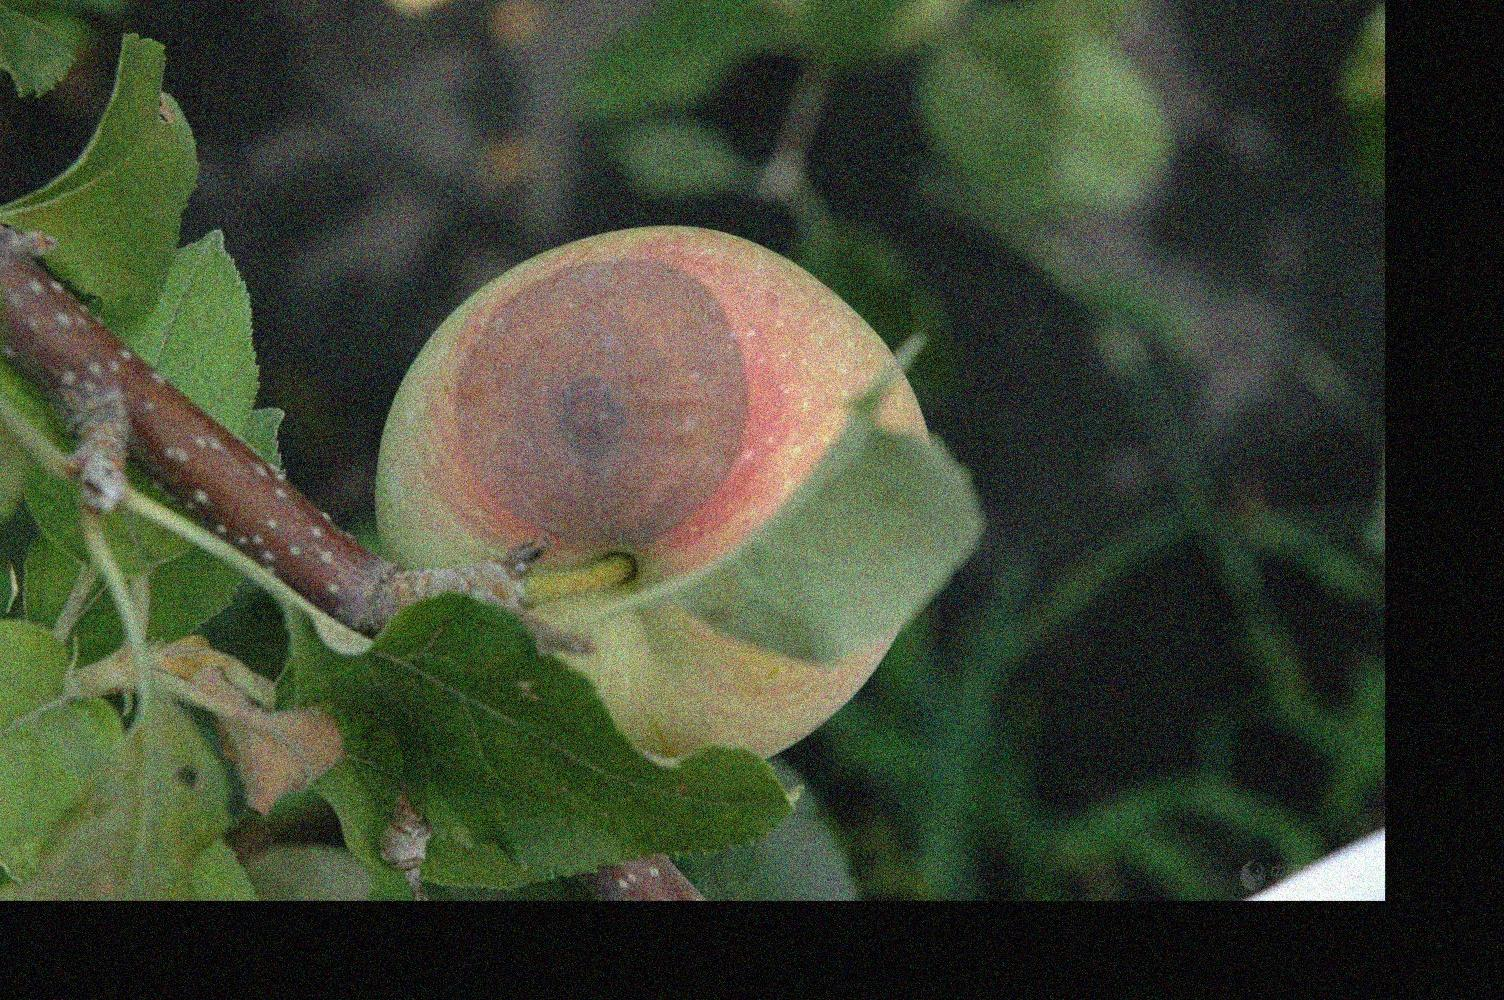rotten apple: (366, 208, 954, 781)
